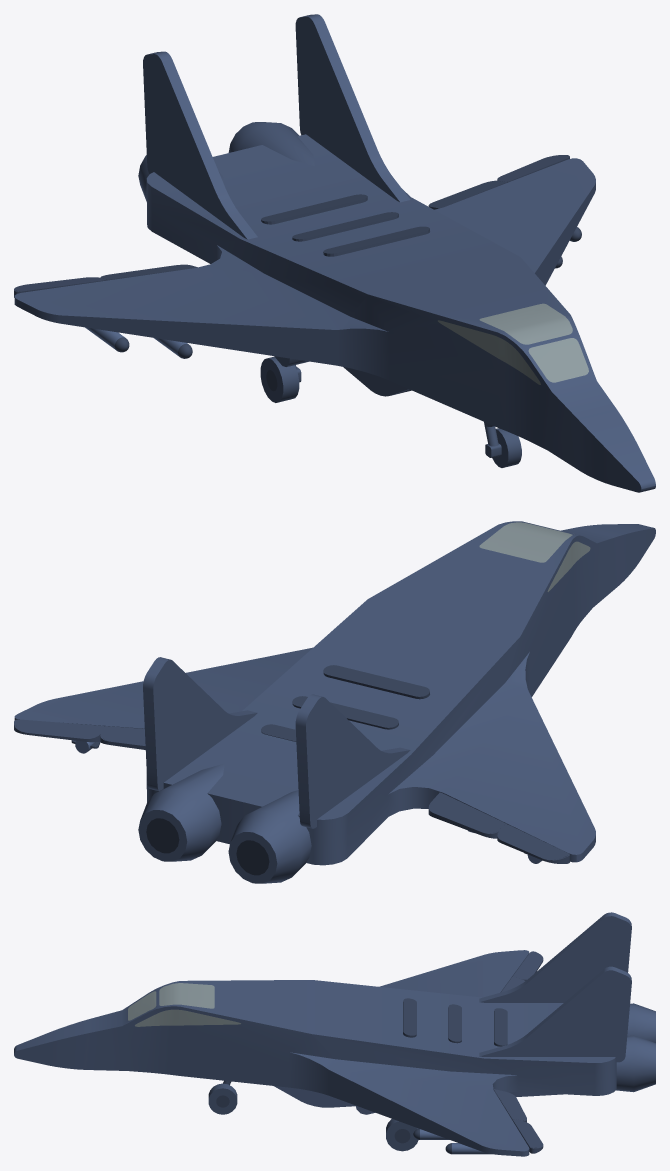
The model's file is Jet.fbx.
3 renders of one model, top to bottom at view 1: azimuth 30°, elevation 25°; view 2: azimuth 150°, elevation 25°; view 3: azimuth 270°, elevation 25°, orthographic. The views are drawn at different scales.
Visible parts, largest first — view 1: Jet, Jet.001, Jet.002; view 2: Jet; view 3: Jet, Jet.001, Jet.002.
Part boxes in pixels (<box>): Jet: <box>14,14,655,492</box>; Jet.001: <box>260,356,301,402</box>; Jet.002: <box>484,422,521,467</box>; Jet: <box>14,521,655,883</box>; Jet: <box>14,912,655,1156</box>; Jet.001: <box>386,1119,418,1151</box>; Jet.002: <box>208,1080,237,1114</box>.
Bounding box in the file's own units: 8.18 × 3.25 × 11.04.
